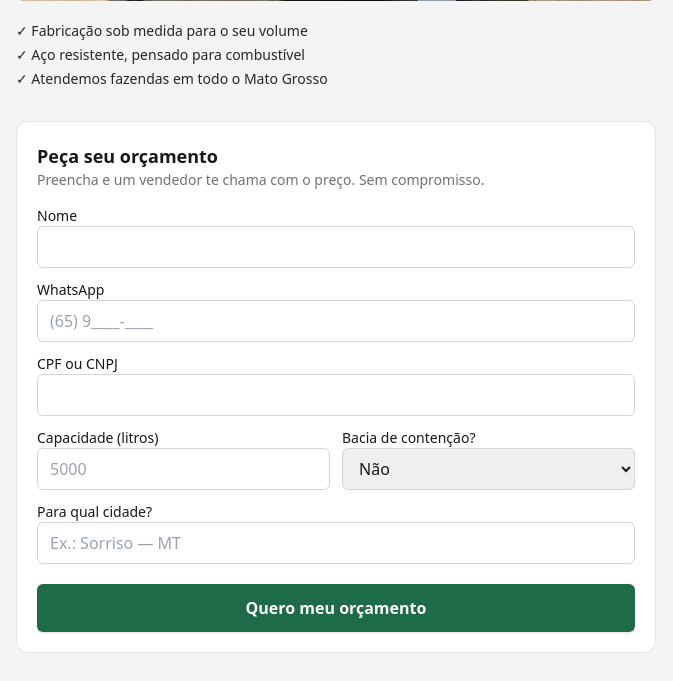
Test: Orcamento (LP) › campos obrigatórios vazios bloqueiam o envio
This screenshot has width=673, height=681.
(page scrolled)
Note: sem nome
Type "65999990000" into the field labelled "WhatsApp" at (336, 321), box x1=37 y1=300 x2=635 y2=342
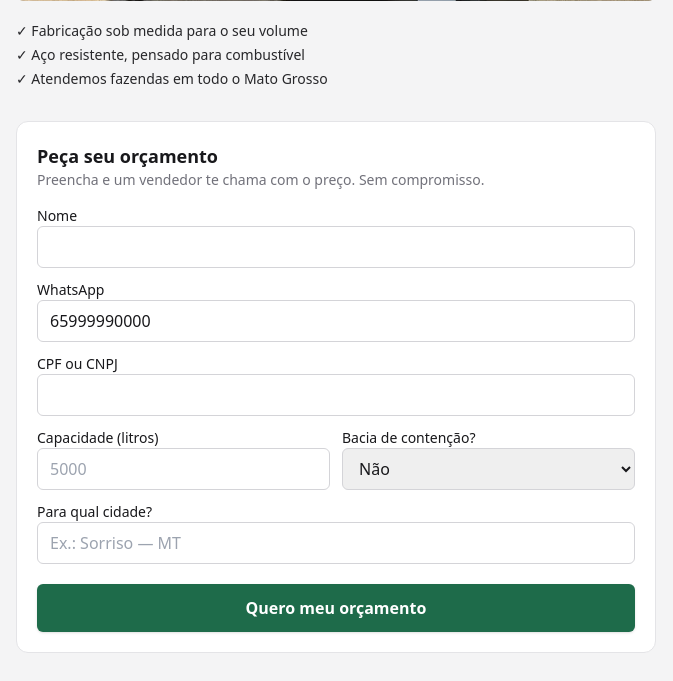
Type "Sorriso-MT" into the field labelled "Para qual cidade?" at (336, 543), box x1=37 y1=522 x2=635 y2=564
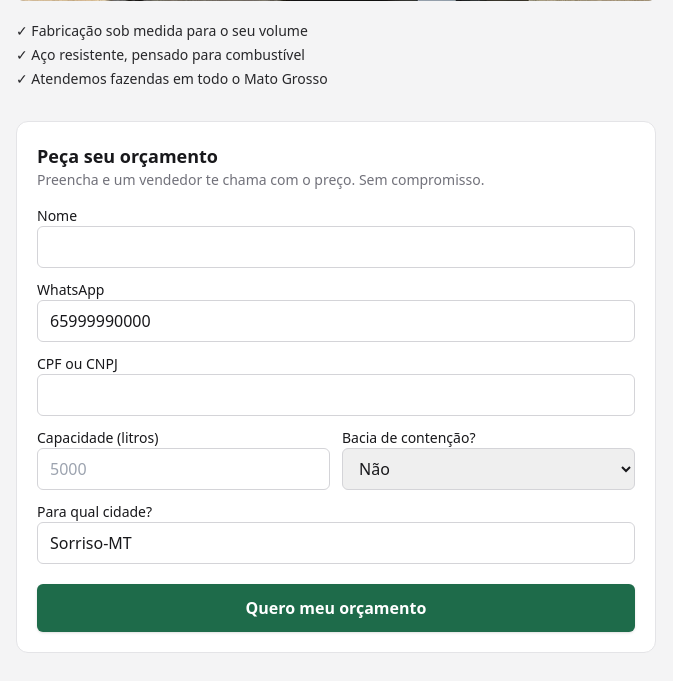
Click the button "Quero meu orçamento" at (336, 608), box x1=37 y1=584 x2=635 y2=632
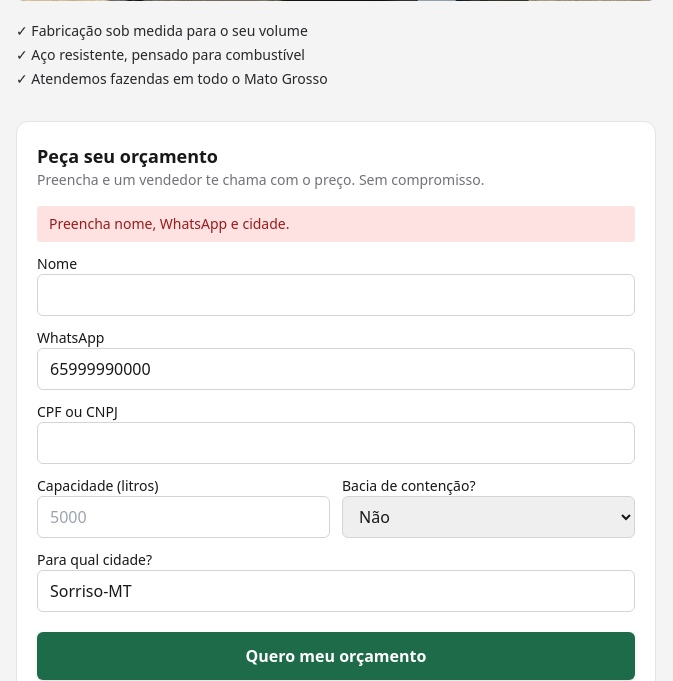
Check: the message "Preencha nome, WhatsApp e cidade." is shown, box x1=37 y1=206 x2=635 y2=242
